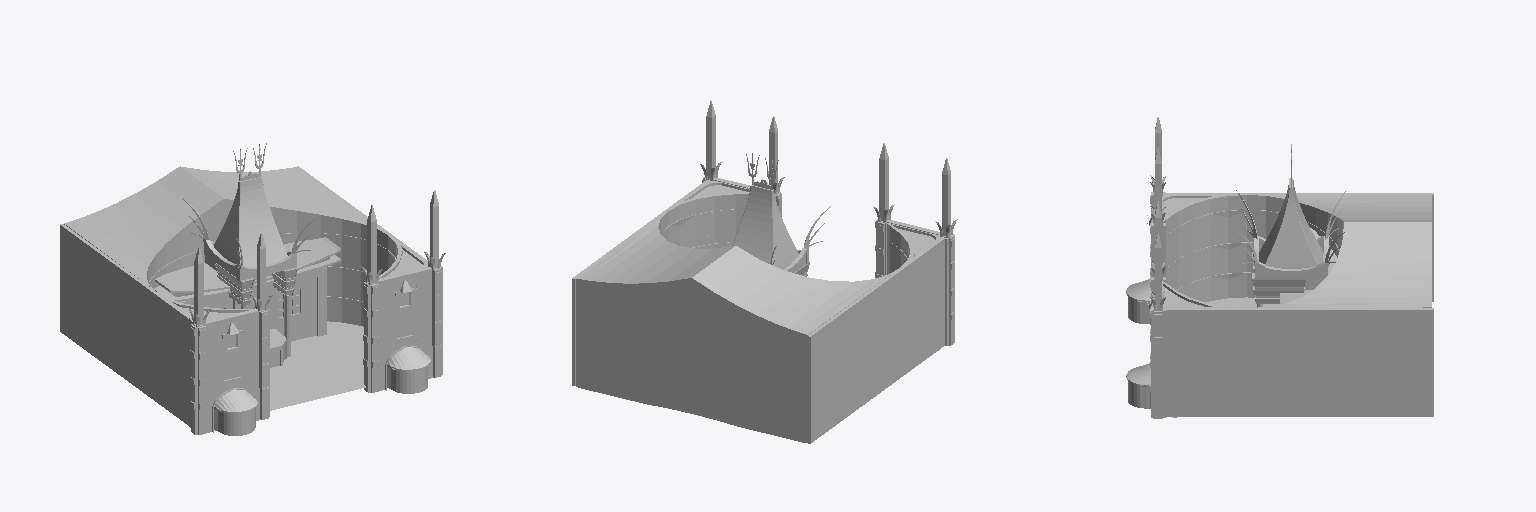
The model's file is chinese theatre.obj.
The picture shows the model from 3 angles: view 1: azimuth 30°, elevation 25°; view 2: azimuth 150°, elevation 25°; view 3: azimuth 270°, elevation 25°; orthographic projection.
Visible parts, largest first — view 1: Collon1_Cube.001, Cube.004_Cube.019, Plane.005_Plane.008, Cube.005_Cube.016, Cylinder.001, Cylinder_Cylinder.005, Plane.001_Plane; view 2: Collon1_Cube.001, Cube.005_Cube.016; view 3: Collon1_Cube.001, Cube.005_Cube.016, Cylinder.001, Cylinder_Cylinder.005, Plane.001_Plane.
Part boxes in pixels (x1,y1,x2,y2): Collon1_Cube.001: (60, 166, 445, 434); Cube.004_Cube.019: (154, 237, 340, 367); Plane.005_Plane.008: (270, 321, 365, 410); Cube.005_Cube.016: (203, 171, 296, 280); Cylinder.001: (214, 347, 430, 435); Cylinder_Cylinder.005: (215, 263, 297, 356); Plane.001_Plane: (181, 143, 318, 267); Collon1_Cube.001: (572, 101, 957, 443); Cube.005_Cube.016: (732, 179, 808, 272); Collon1_Cube.001: (1147, 117, 1433, 418); Cube.005_Cube.016: (1254, 178, 1328, 278); Cylinder.001: (1126, 279, 1150, 408); Cylinder_Cylinder.005: (1252, 252, 1305, 307); Plane.001_Plane: (1236, 144, 1345, 263).
Bounding box in the file's own units: 27.06 × 21.72 × 28.81.